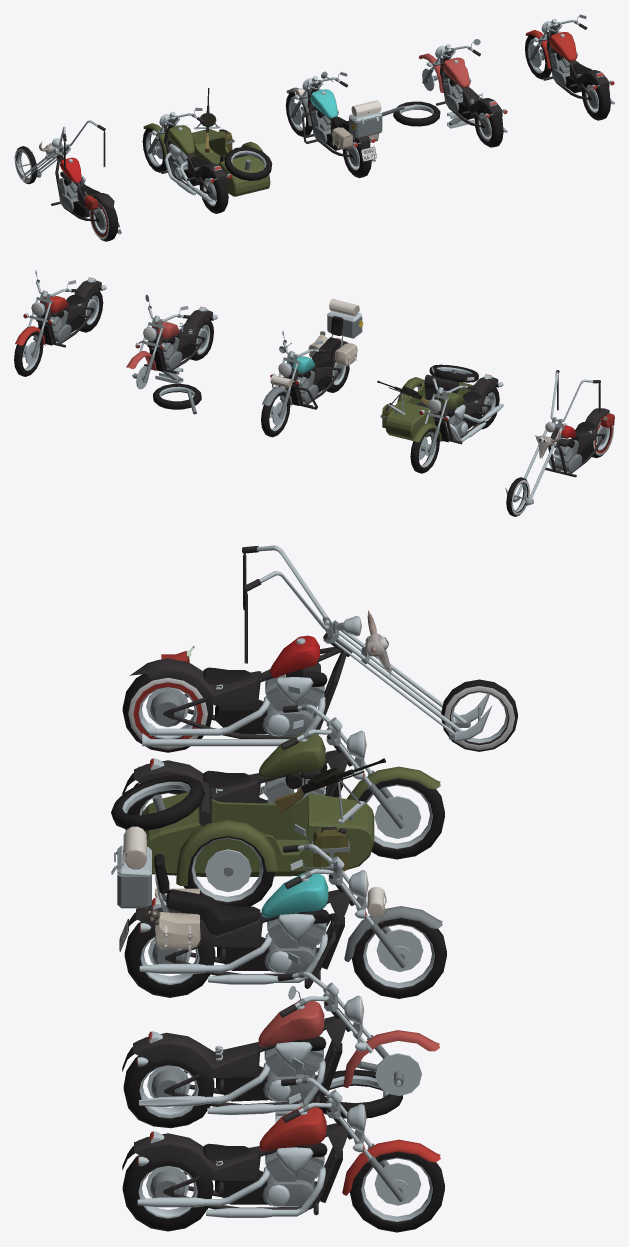
File: moto_all.fbx
3 renders of one model, top to bottom at view 1: azimuth 30°, elevation 25°; view 2: azimuth 150°, elevation 25°; view 3: azimuth 270°, elevation 25°, orthographic. The views are drawn at different scales.
Parts seen in each view (by area): view 1: pasted__pCube32, pasted__pCylinder11 (×3), pasted__pCube6 (×3), pasted__pasted__pCube11 (×2), pasted__polySurface206, pasted__pCylinder10 (×2), pCylinder10, pasted__pCube11, pasted__polySurface193, pCube6, pasted__polySurface52, pasted__polySurface137 (+6 smaller); view 2: pasted__pCube32, pasted__pasted__pCube11 (×2), pasted__pCylinder10 (×2), pasted__pCube11, pCylinder10, pasted__polySurface158, pasted__polySurface133, pasted__polySurface206, pasted__pasted__pCube8, pasted__pCube33, pasted__pasted__pCylinder10, pasted__pCube53 (+2 smaller); view 3: pasted__pCube32, pasted__pCylinder11 (×3), pasted__pasted__pCube11 (×3), pasted__pCube6 (×3), pasted__pCylinder10 (×2), pasted__pCylinder34 (×3), pasted__pCylinder32 (×3), pasted__pCube11, pasted__polySurface21 (×2), pasted__pCylinder48 (×2), pasted__polySurface206, pCylinder11 (+24 smaller).
Part boxes in pixels (x1,y1,x2,y2): pasted__pCube32: (192,129,270,196); pasted__pCylinder11 (×3): (89,81,610,241); pasted__pCube6 (×3): (60,32,576,183); pasted__pasted__pCube11 (×2): (77,60,609,208); pasted__polySurface206: (224,147,272,180); pasted__pCylinder10 (×2): (285,35,551,136); pCylinder10: (393,101,440,126); pasted__pCube11: (462,87,502,114); pasted__polySurface193: (167,125,194,154); pCube6: (442,57,470,87); pasted__polySurface52: (349,116,382,138); pasted__polySurface137: (199,174,228,213); pasted__pCube32: (385,380,473,440); pasted__pasted__pCube11 (×2): (64,280,609,446); pasted__pCylinder10 (×2): (14,331,290,437); pasted__pCube11: (176,309,213,346); pCylinder10: (153,383,201,409); pasted__polySurface158: (463,377,498,414); pasted__polySurface133: (410,428,439,473); pasted__polySurface206: (429,364,478,382); pasted__pasted__pCube8: (312,337,340,367); pasted__pCube33: (424,374,458,400); pasted__pasted__pCylinder10: (506,477,529,516); pasted__pCube53: (335,343,357,366); pasted__pCube32: (141,792,374,876); pasted__pCylinder11 (×3): (122,674,215,1231); pasted__pasted__pCube11 (×3): (130,658,263,1180); pasted__pCube6 (×3): (259,635,328,1151); pasted__pCylinder10 (×2): (349,918,446,1232); pasted__pCylinder34 (×3): (142,696,327,1217); pasted__pCylinder32 (×3): (137,696,272,1207); pasted__pCube11: (133,1032,260,1078); pasted__polySurface21 (×2): (163,647,346,1210); pasted__pCylinder48 (×2): (342,906,442,1195); pasted__polySurface206: (111,775,204,830); pCylinder11: (123,1056,214,1128).
Size of the model in its own units: 22.95 by 3.96 by 7.58.
